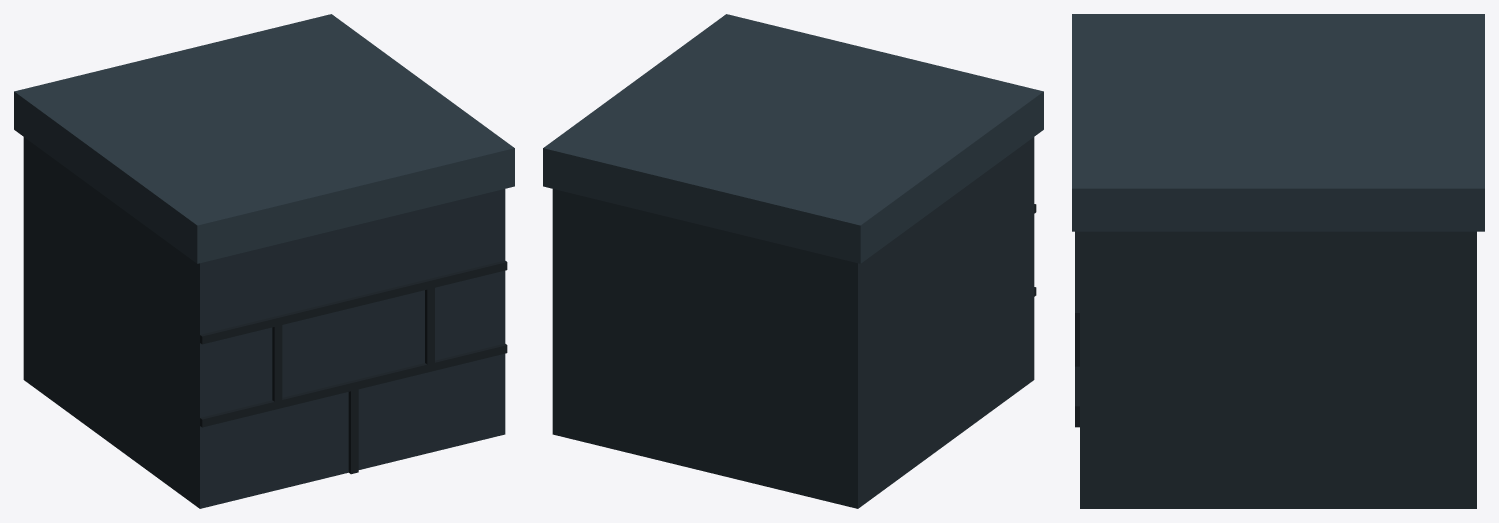
File: k_mire_wall.glb
3 views of the same model, side by side, from view 1: azimuth 30°, elevation 25°; view 2: azimuth 150°, elevation 25°; view 3: azimuth 270°, elevation 25° (orthographic). The views are drawn at different scales.
Parts seen in each view (by area): view 1: piece; view 2: piece; view 3: piece.
Part boxes in pixels (x1,y1,x2,y2): piece: (14,14,514,508); piece: (543,14,1043,508); piece: (1072,14,1484,508).
Bounding box in the file's own units: 1.04 × 0.9 × 1.04.
